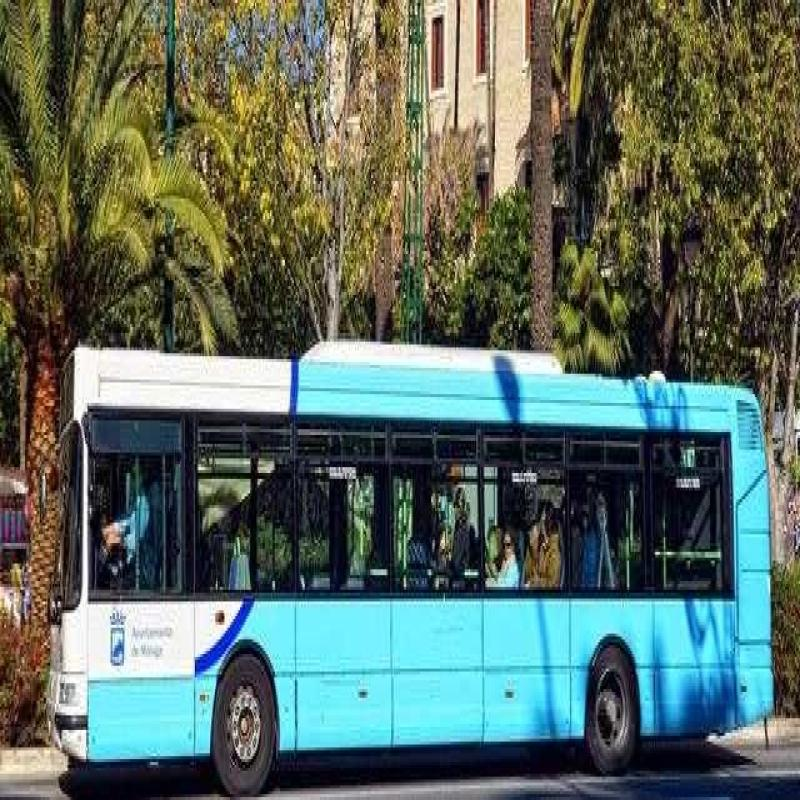bus: (36, 307, 786, 780)
